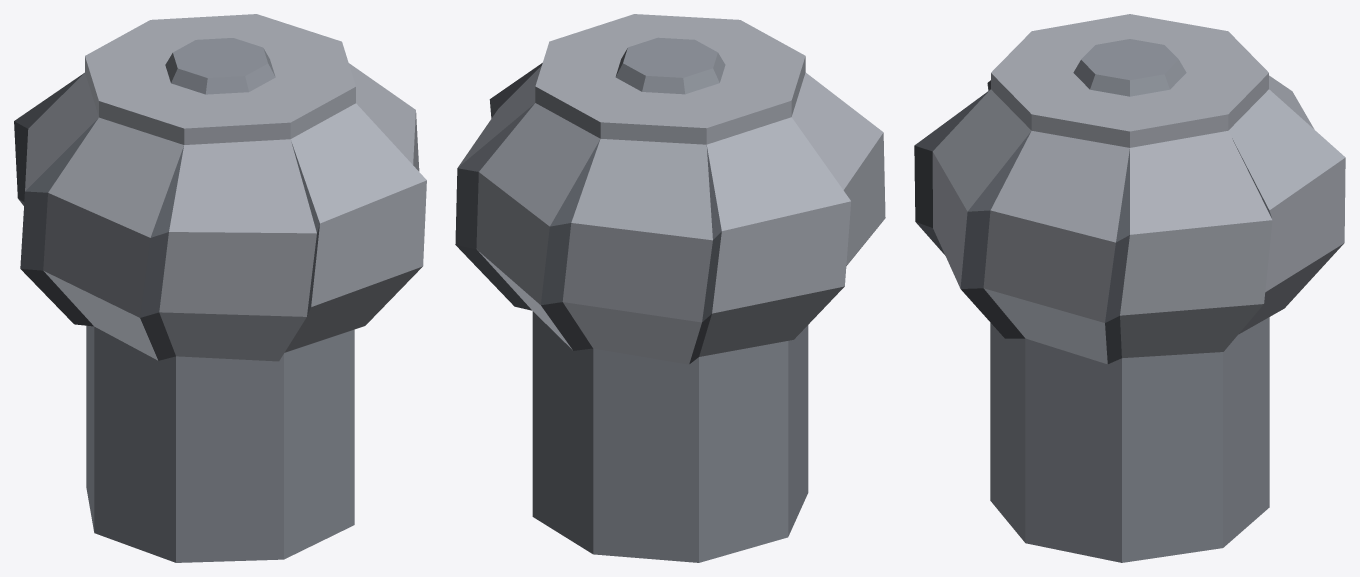
File: SM_Prop_Airvent_01.fbx
The picture shows the model from 3 angles, left to right: view 1: azimuth 30°, elevation 25°; view 2: azimuth 150°, elevation 25°; view 3: azimuth 270°, elevation 25°; orthographic projection.
Visible parts, largest first — view 1: SM_Prop_Airvent_01; view 2: SM_Prop_Airvent_01; view 3: SM_Prop_Airvent_01.
Part boxes in pixels (<box>): SM_Prop_Airvent_01: <box>14,14,426,562</box>; SM_Prop_Airvent_01: <box>455,14,885,562</box>; SM_Prop_Airvent_01: <box>914,14,1345,562</box>.
Size of the model in its own units: 79.04 by 89.86 by 79.04.
